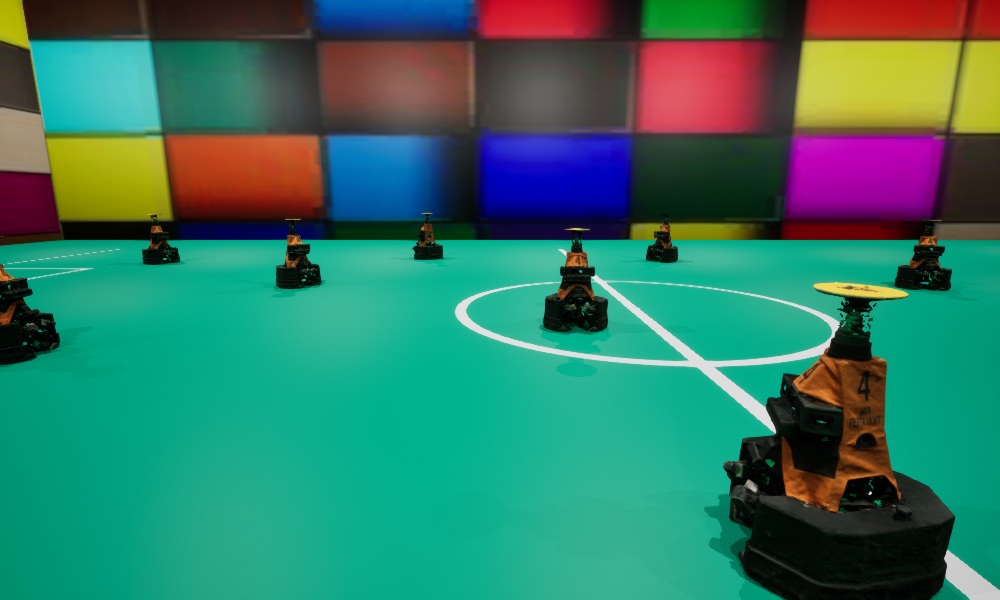0 orange robot TechUnited: (723, 282, 954, 599), (0, 236, 59, 364), (543, 228, 607, 331), (894, 220, 951, 289), (275, 219, 321, 288), (142, 214, 179, 264), (646, 214, 677, 261), (412, 213, 442, 259)
